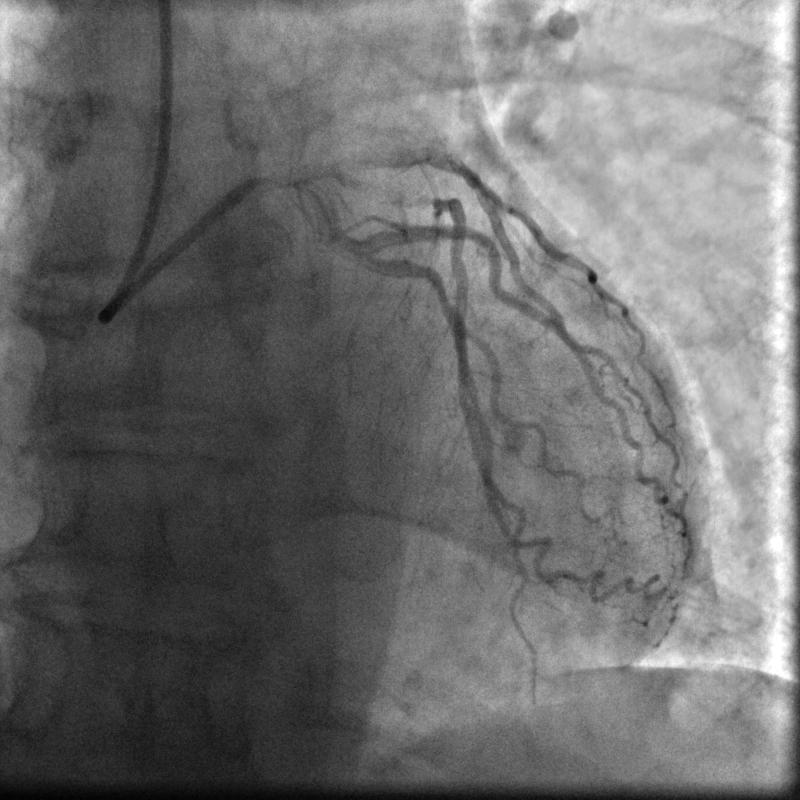Stenosis: (358, 175, 439, 211)
